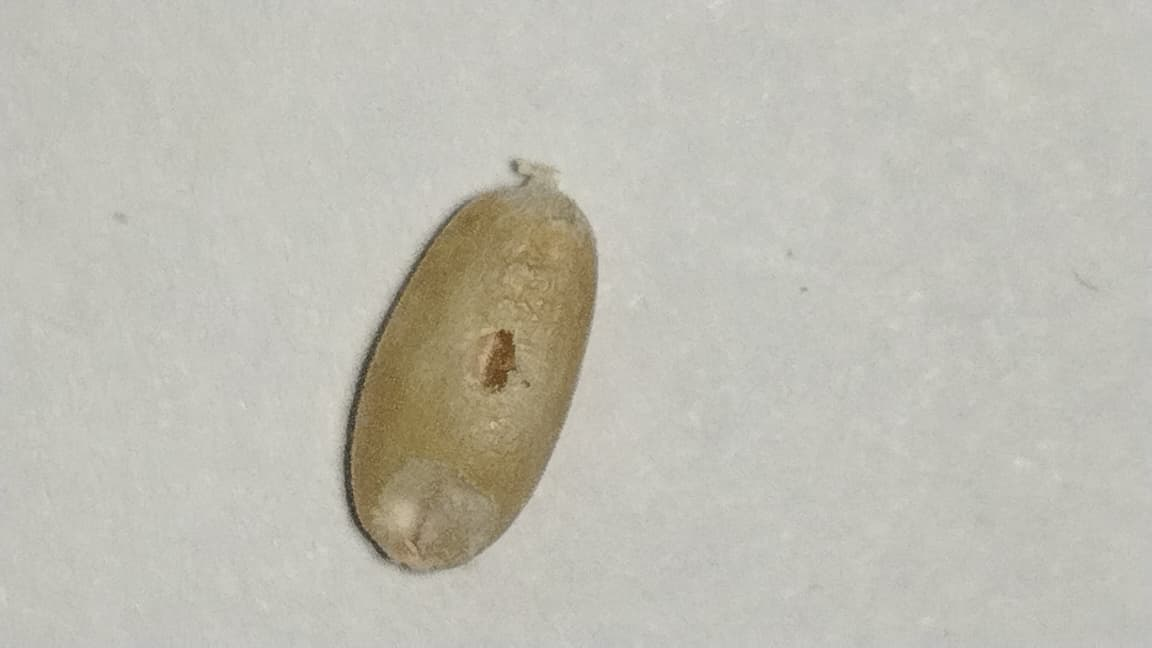damage: (346, 174, 598, 570)
insectdamage: (370, 429, 502, 578), (422, 316, 554, 413)
